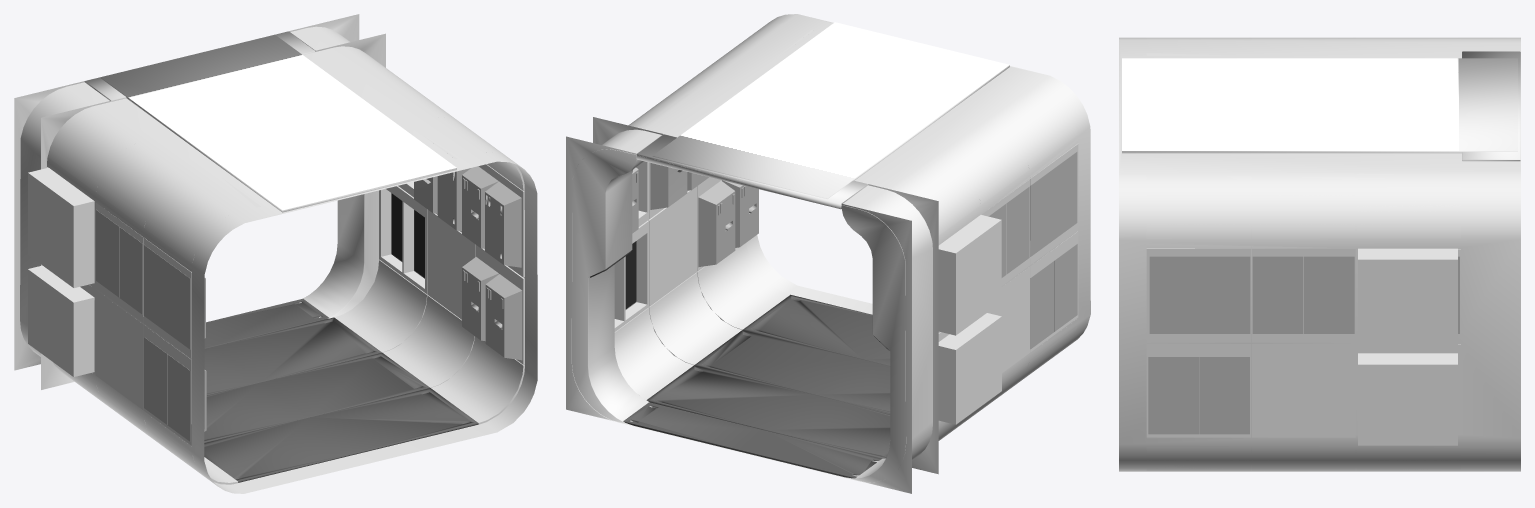
3 views of the same model, side by side, from view 1: azimuth 30°, elevation 25°; view 2: azimuth 150°, elevation 25°; view 3: azimuth 270°, elevation 25° (orthographic). The views are drawn at different scales.
Parts seen in each view (by area): view 1: hallway, pillar, control panel2, control panel1, control panel2.001, control panel3, control panel5, control panel6; view 2: hallway, pillar, control panel2.001, control panel2, control panel5, control panel6, control panel3, control panel1; view 3: hallway, control panel3, control panel5, control panel6, control panel2, control panel2.001, control panel1, pillar.
Part boxes in pixels (<box>): hallway: <box>20,26,537,493</box>; pillar: <box>14,14,385,389</box>; control panel2: <box>167,274,522,441</box>; control panel1: <box>167,181,521,349</box>; control panel2.001: <box>144,257,498,424</box>; control panel3: <box>143,166,498,332</box>; control panel5: <box>119,168,470,314</box>; control panel6: <box>96,176,437,297</box>; hallway: <box>571,14,1090,482</box>; pillar: <box>566,117,938,493</box>; control panel2.001: <box>698,181,1054,348</box>; control panel2: <box>722,180,1077,331</box>; control panel5: <box>687,172,1029,274</box>; control panel6: <box>650,163,1005,277</box>; control panel3: <box>1030,169,1054,256</box>; control panel1: <box>1054,152,1077,239</box>; hallway: <box>1119,37,1520,471</box>; control panel3: <box>1199,256,1250,333</box>; control panel5: <box>1252,256,1303,333</box>; control panel6: <box>1304,256,1354,333</box>; control panel2: <box>1148,357,1198,434</box>; control panel2.001: <box>1199,357,1249,434</box>; control panel1: <box>1149,256,1199,333</box>; pillar: <box>1462,51,1520,161</box>.
Size of the model in its own units: 465 by 323 by 396.
